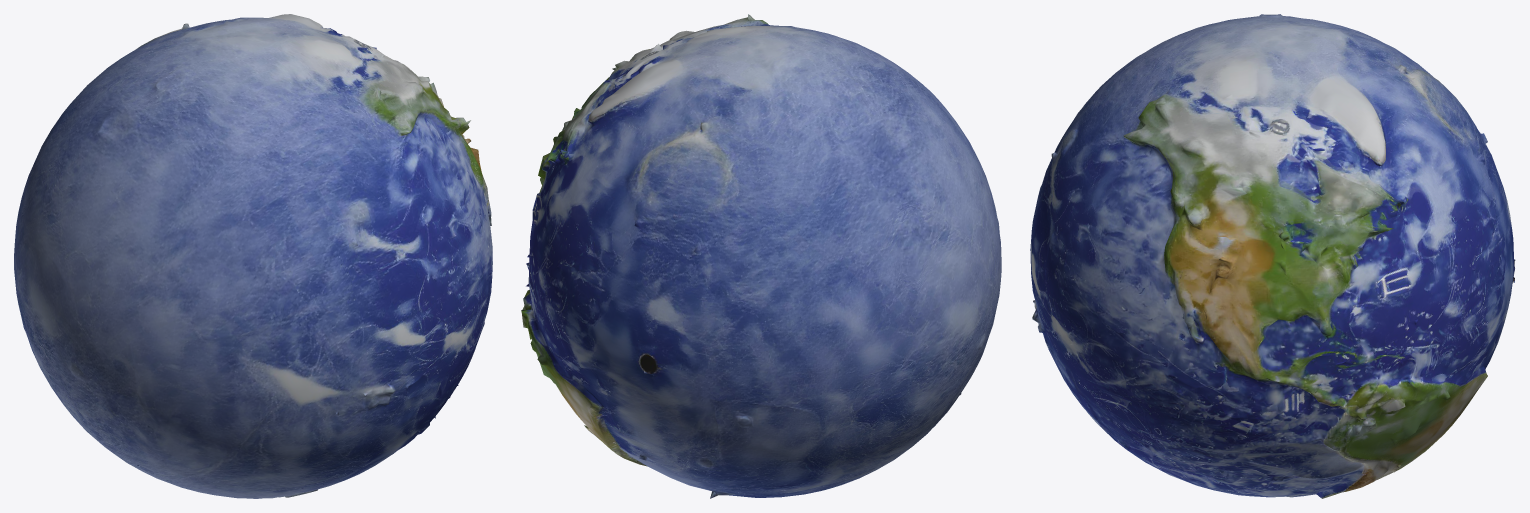
File: photoreal-moon-orbiting-earth-9efe8e76.glb
3 views of the same model, side by side, from view 1: azimuth 30°, elevation 25°; view 2: azimuth 150°, elevation 25°; view 3: azimuth 270°, elevation 25° (orthographic).
Visible parts, largest first — view 1: tripo_node_38268d5a-6603-4da8-a2c9-f3081005ec4b; view 2: tripo_node_38268d5a-6603-4da8-a2c9-f3081005ec4b; view 3: tripo_node_38268d5a-6603-4da8-a2c9-f3081005ec4b.
Part boxes in pixels (<box>): tripo_node_38268d5a-6603-4da8-a2c9-f3081005ec4b: <box>14,14,492,498</box>; tripo_node_38268d5a-6603-4da8-a2c9-f3081005ec4b: <box>521,14,1001,498</box>; tripo_node_38268d5a-6603-4da8-a2c9-f3081005ec4b: <box>1030,14,1515,498</box>.
Size of the model in its own units: 0.9985 by 0.9957 by 0.9964.
1 material, 1 textured.
